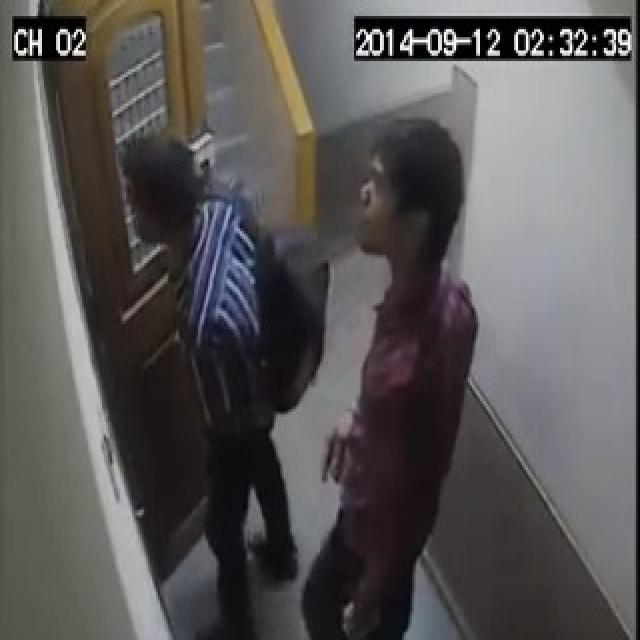thief: (114, 120, 318, 640), (323, 115, 478, 640)
